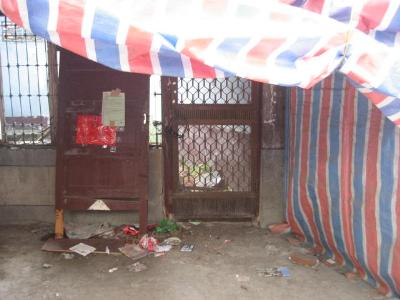plastic_bag: (1, 1, 399, 136)
